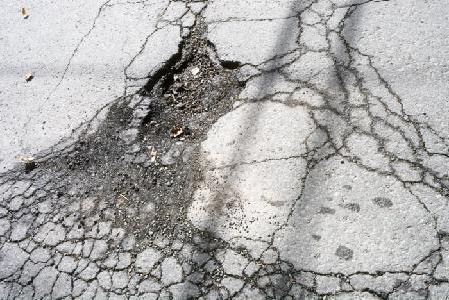pothole: (131, 13, 248, 147)
